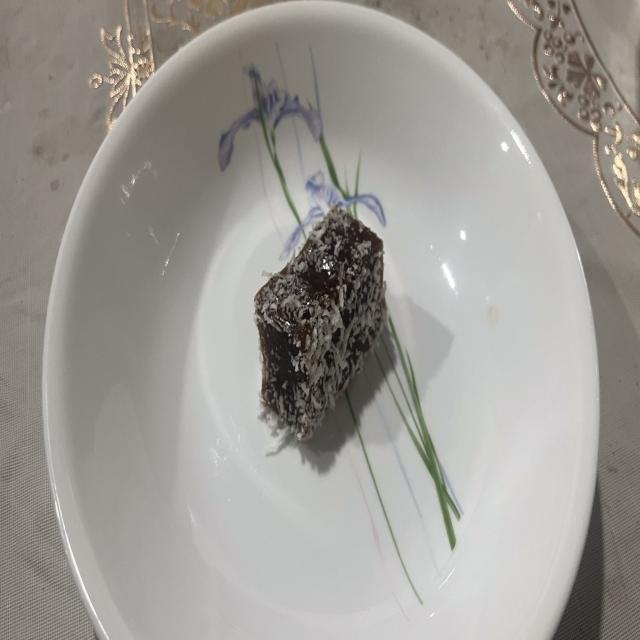kaswi: (254, 204, 386, 440)
